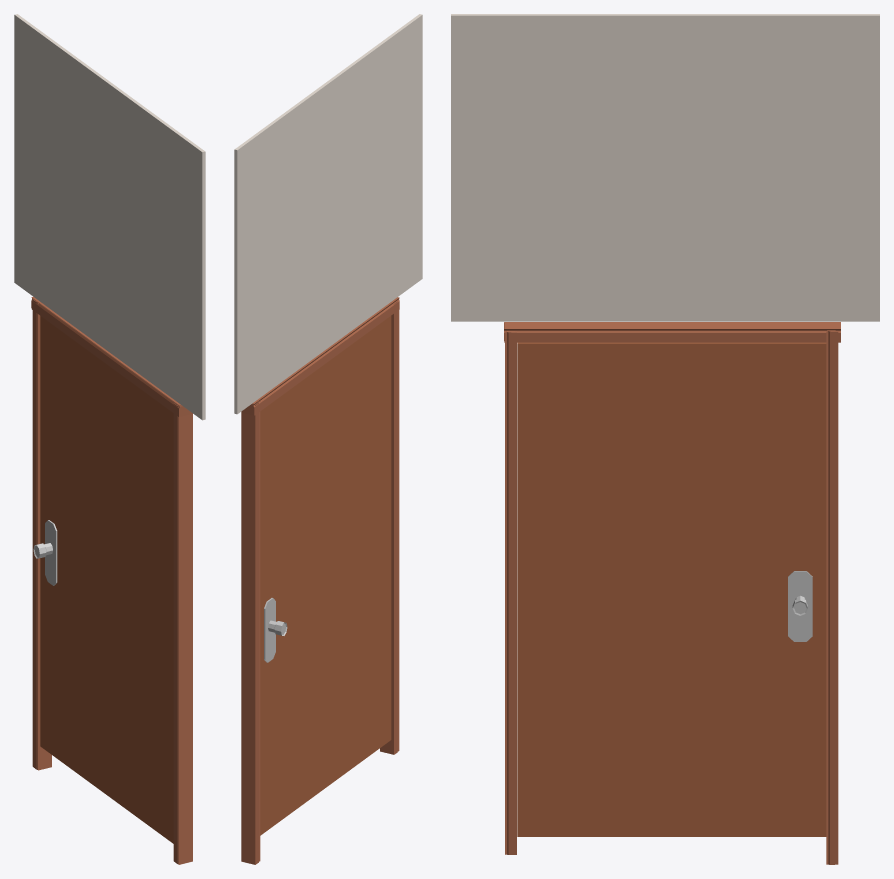
The model's file is Porta.fbx.
The picture shows the model from 3 angles, left to right: view 1: azimuth 30°, elevation 25°; view 2: azimuth 150°, elevation 25°; view 3: azimuth 270°, elevation 25°; orthographic projection. The views are drawn at different scales.
Visible parts, largest first — view 1: Cube.063, Cube.059, Cube.062, Cube.061, Cube.060; view 2: Cube.063, Cube.059, Cube.061, Cube.062, Cube.060; view 3: Cube.063, Cube.059, Cube.061, Cube.060, Cube.062.
Boxes of the visible parts, bbox=[...] form: Cube.063: bbox=[33, 316, 173, 843]; Cube.059: bbox=[14, 14, 205, 420]; Cube.062: bbox=[173, 403, 192, 864]; Cube.061: bbox=[32, 299, 51, 770]; Cube.060: bbox=[31, 296, 191, 416]; Cube.063: bbox=[260, 316, 391, 835]; Cube.059: bbox=[234, 14, 422, 414]; Cube.061: bbox=[241, 401, 260, 864]; Cube.062: bbox=[380, 300, 399, 754]; Cube.060: bbox=[241, 297, 399, 415]; Cube.063: bbox=[517, 342, 826, 836]; Cube.059: bbox=[451, 14, 879, 321]; Cube.061: bbox=[826, 330, 838, 864]; Cube.060: bbox=[504, 322, 840, 342]; Cube.062: bbox=[505, 331, 516, 854].
Bounding box in the file's own units: 28.81 × 535 × 246.
